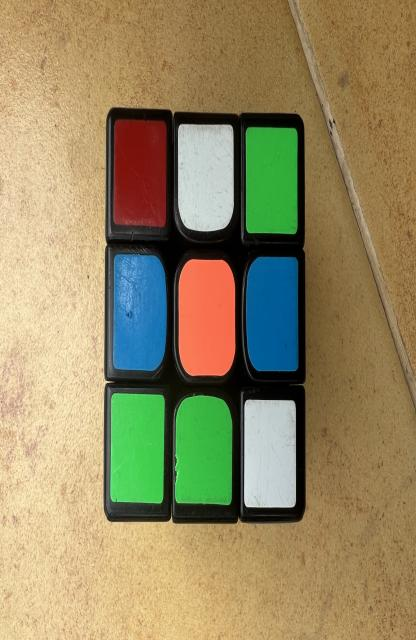Blue: (113, 253, 167, 372), (246, 257, 298, 372)
Green: (175, 395, 232, 505), (110, 393, 165, 503), (245, 127, 297, 235)
Orange: (179, 258, 236, 377)
Red: (114, 118, 167, 227)
White: (178, 123, 234, 232), (244, 400, 296, 508)
